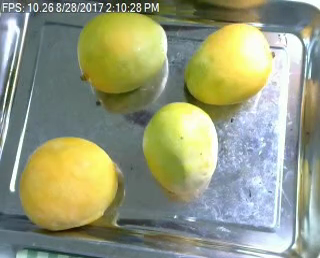Mango: (20, 136, 118, 227), (75, 11, 166, 94), (184, 22, 274, 105), (139, 102, 218, 193)
